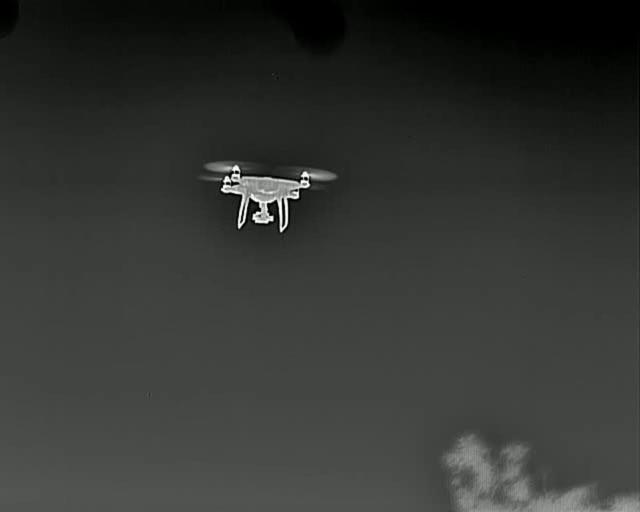DJI-Phantom: (199, 159, 337, 234)
